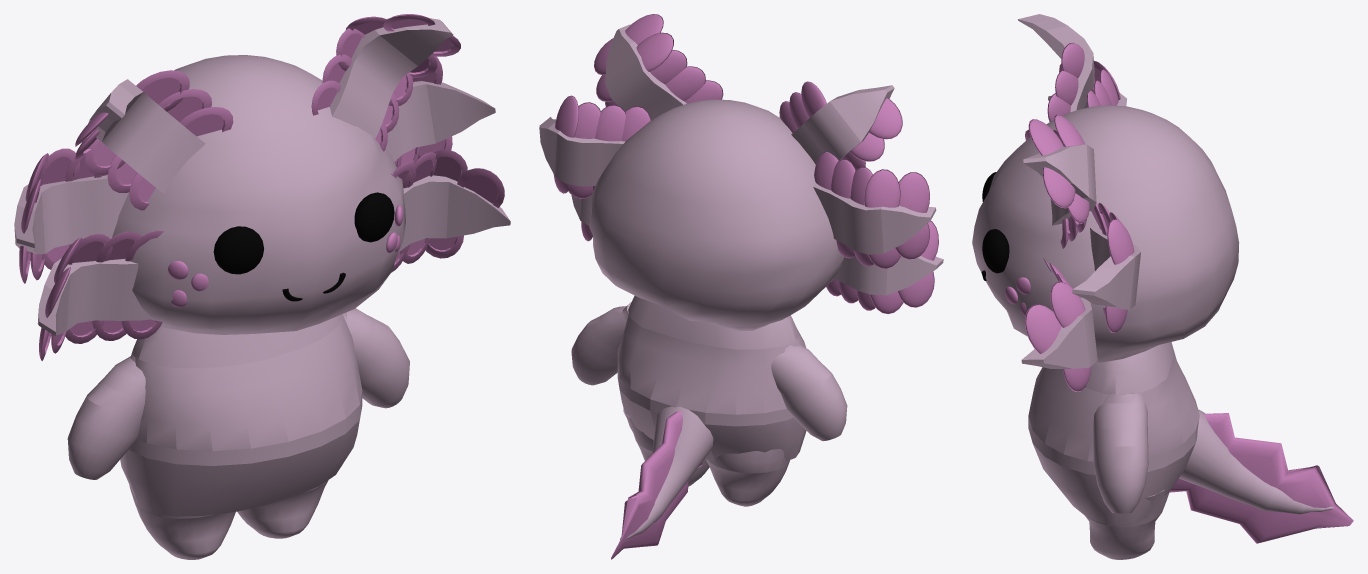
The model's file is 0101ajolotechidooooooooooooooo.fbx.
The picture shows the model from 3 angles, left to right: view 1: azimuth 30°, elevation 25°; view 2: azimuth 150°, elevation 25°; view 3: azimuth 270°, elevation 25°; orthographic projection. The views are drawn at different scales.
Parts seen in each view (by area): view 1: pSphere71; view 2: pSphere71; view 3: pSphere71.
Part boxes in pixels (x1,y1,x2,y2): pSphere71: [14, 14, 510, 559]; pSphere71: [539, 14, 943, 559]; pSphere71: [972, 14, 1353, 559].
Bounding box in the file's own units: 2475 × 2686 × 1954.
